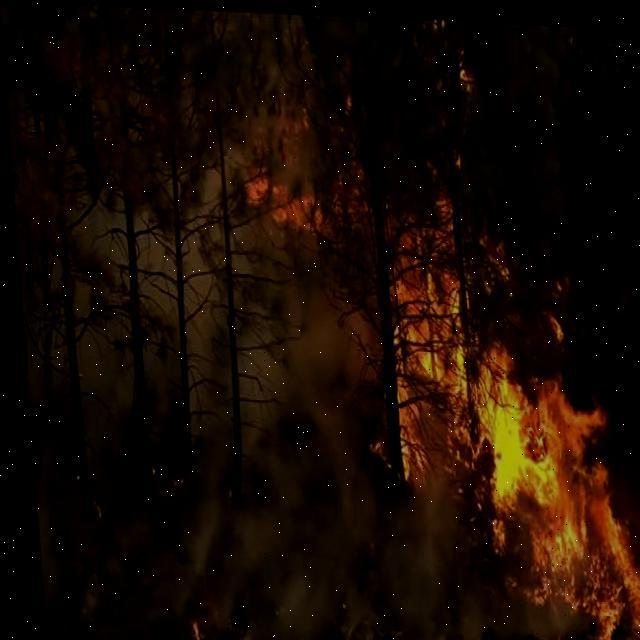Fire: (382, 211, 639, 637)
